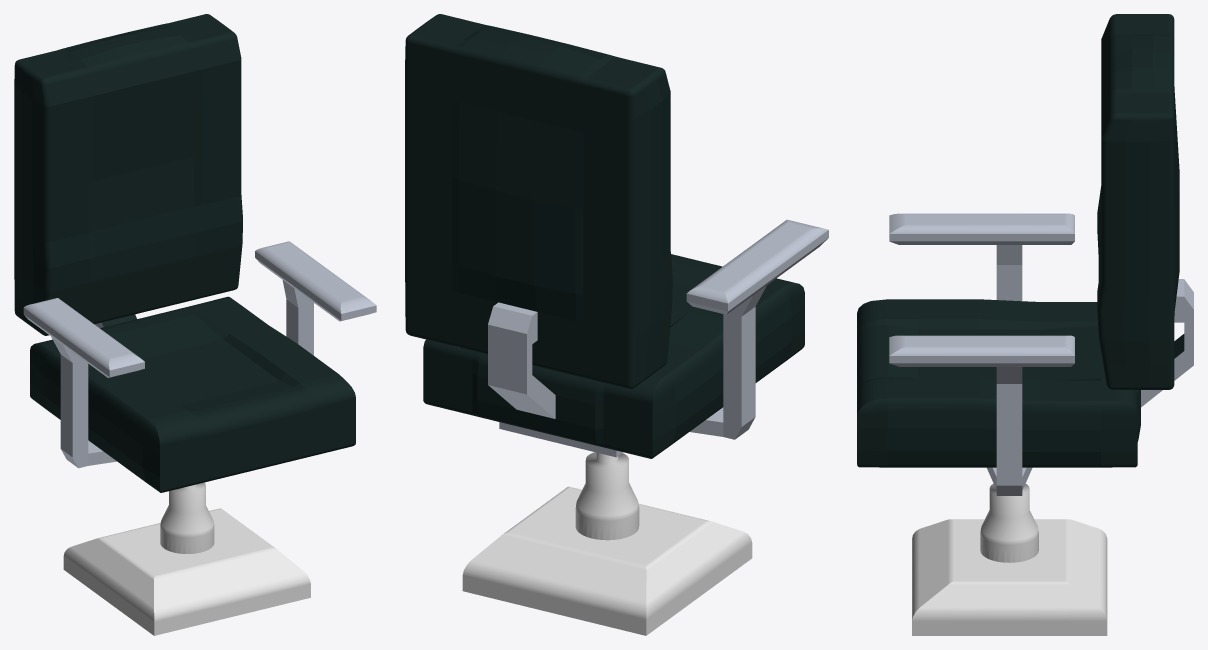
The model's file is SSCChair1.fbx.
The picture shows the model from 3 angles, left to right: view 1: azimuth 30°, elevation 25°; view 2: azimuth 150°, elevation 25°; view 3: azimuth 270°, elevation 25°; orthographic projection. The views are drawn at different scales.
Visible parts, largest first — view 1: SSCChair1_Seat, SSCChair1_Base; view 2: SSCChair1_Seat, SSCChair1_Base; view 3: SSCChair1_Seat, SSCChair1_Base.
Boxes of the visible parts, x1=… form: SSCChair1_Seat: x1=14, y1=14, x2=376, y2=492; SSCChair1_Base: x1=63, y1=482, x2=310, y2=635; SSCChair1_Seat: x1=405, y1=14, x2=828, y2=458; SSCChair1_Base: x1=462, y1=452, x2=752, y2=635; SSCChair1_Seat: x1=857, y1=14, x2=1193, y2=495; SSCChair1_Base: x1=912, y1=483, x2=1107, y2=635.
Bounding box in the file's own units: 68.06 × 121 × 69.
